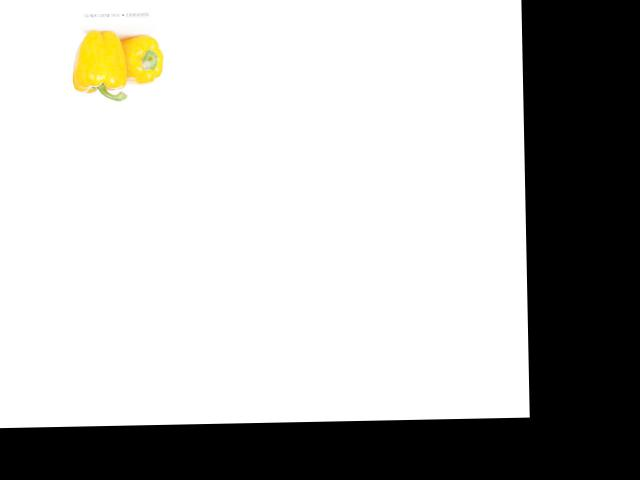bell_pepper: (118, 32, 164, 88)
